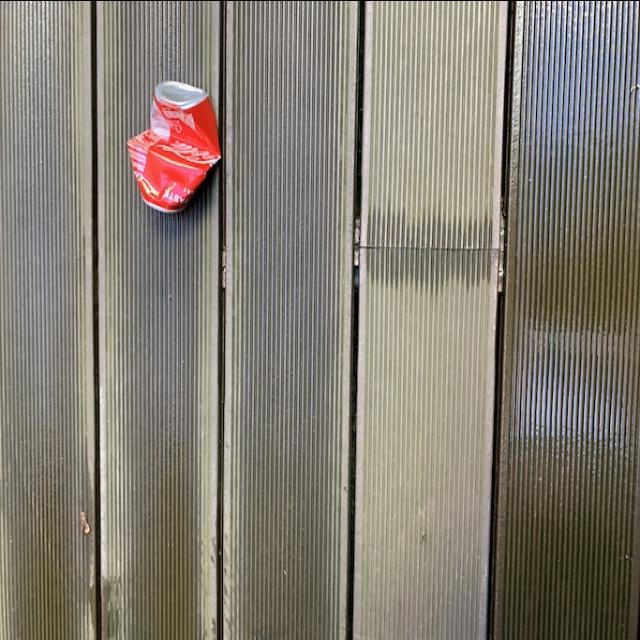litter: (127, 74, 227, 218)
